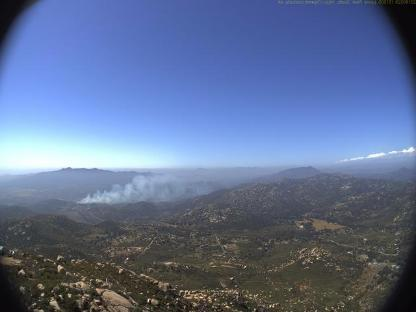smoke: (75, 171, 219, 207)
